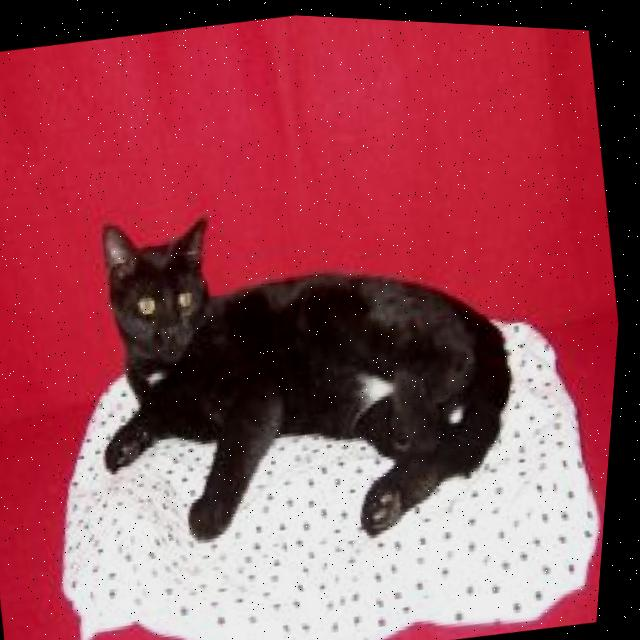Bombay: (60, 149, 555, 576)
